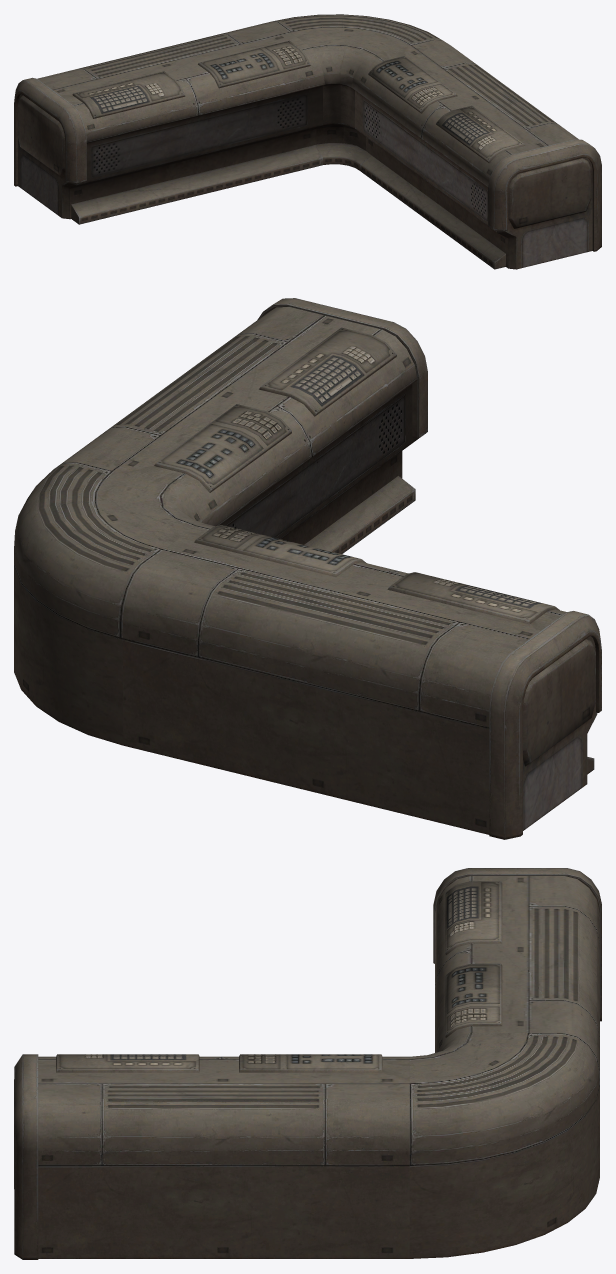
File: computer_pplant_turn.dae
3 views of the same model, one above another, from view 1: azimuth 30°, elevation 25°; view 2: azimuth 150°, elevation 25°; view 3: azimuth 270°, elevation 25° (orthographic). The views are drawn at different scales.
Parts seen in each view (by area): view 1: computer_pplant_turn; view 2: computer_pplant_turn; view 3: computer_pplant_turn.
Part boxes in pixels (x1,y1,x2,y2): computer_pplant_turn: (14,14,601,269); computer_pplant_turn: (14,298,601,839); computer_pplant_turn: (14,868,601,1259).
Size of the model in its own units: 3.65 by 1.01 by 3.64.
